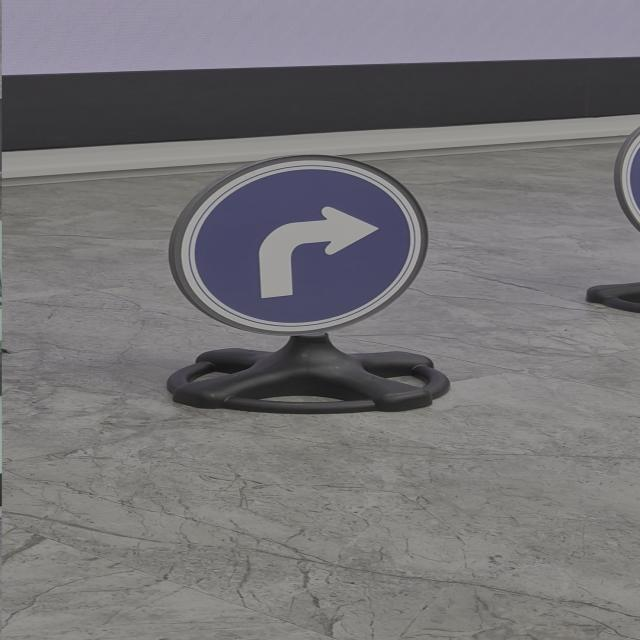right_dierection: (117, 143, 473, 360)
